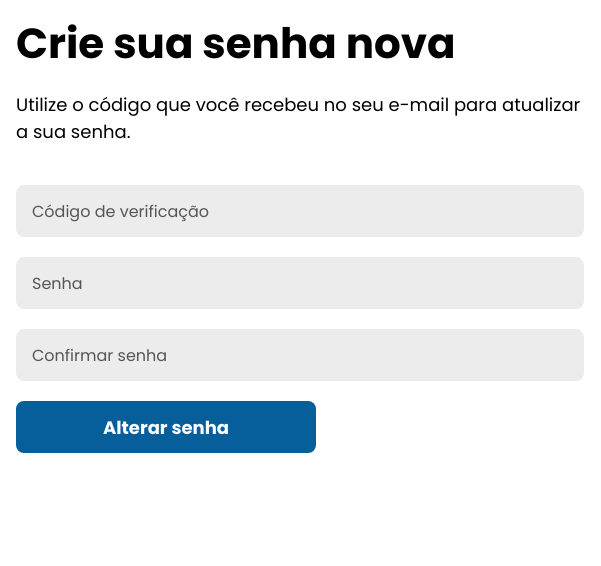
Página de Validação de Senha › deve mostrar erro de validação quando os campos estiverem vazios
Step 1. Click the button "Alterar senha" → (166, 427), box [16,401,316,453]
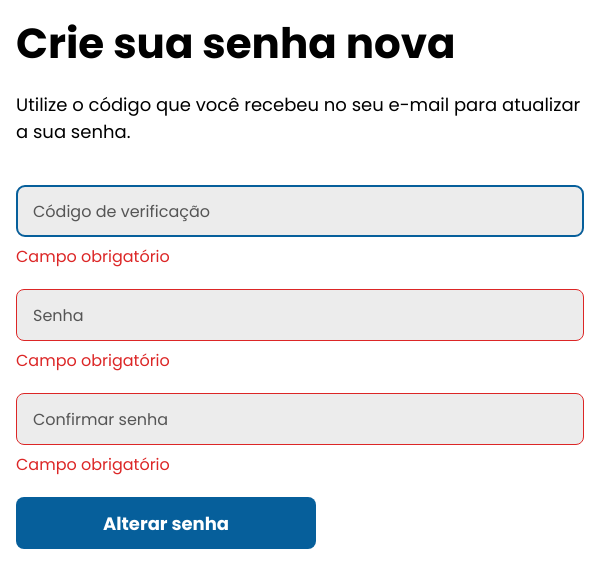
Now the text "Campo obrigatório" is shown 3 times, box [16,245,170,268]; [16,349,170,372]; [16,453,170,476]
